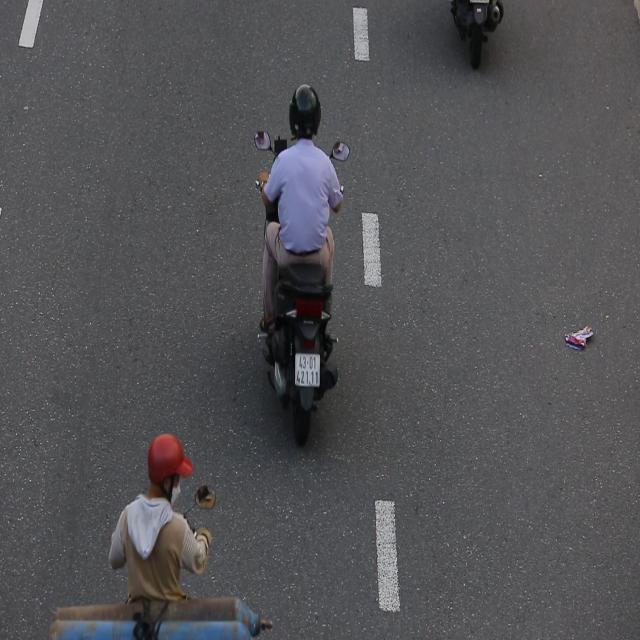motorbike: (240, 66, 366, 477)
